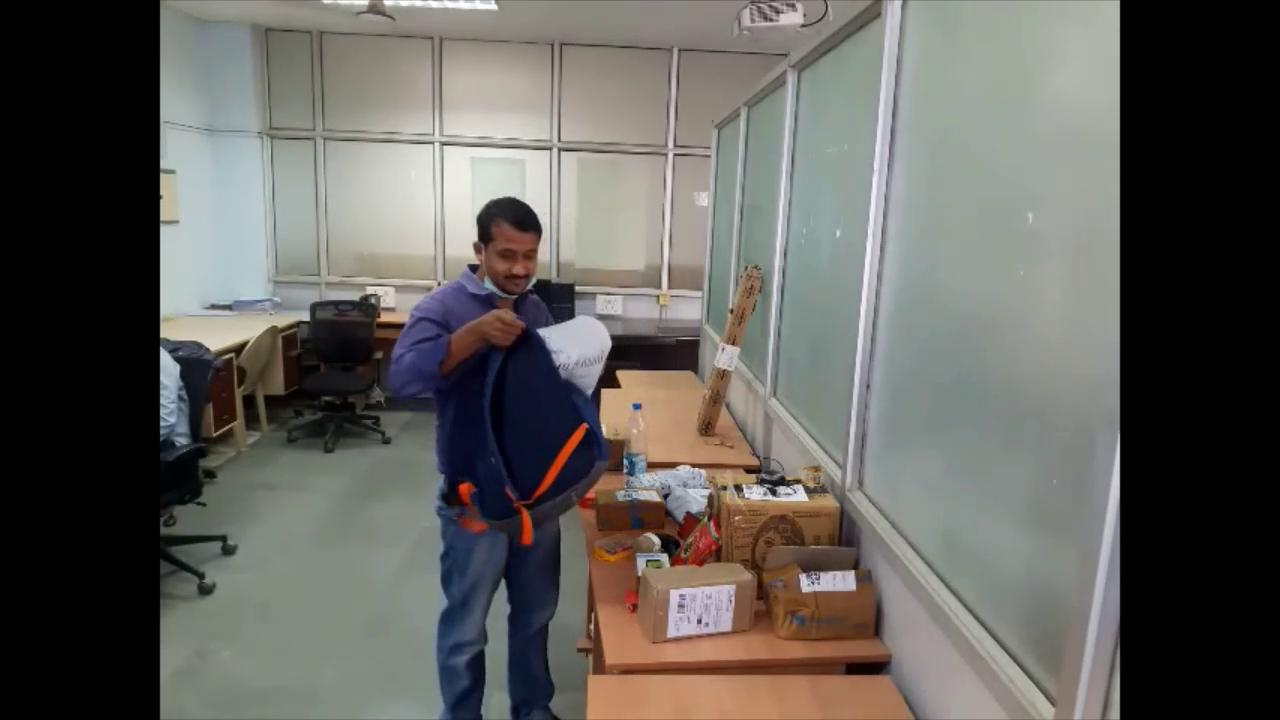shoplifting: (372, 197, 621, 720)
